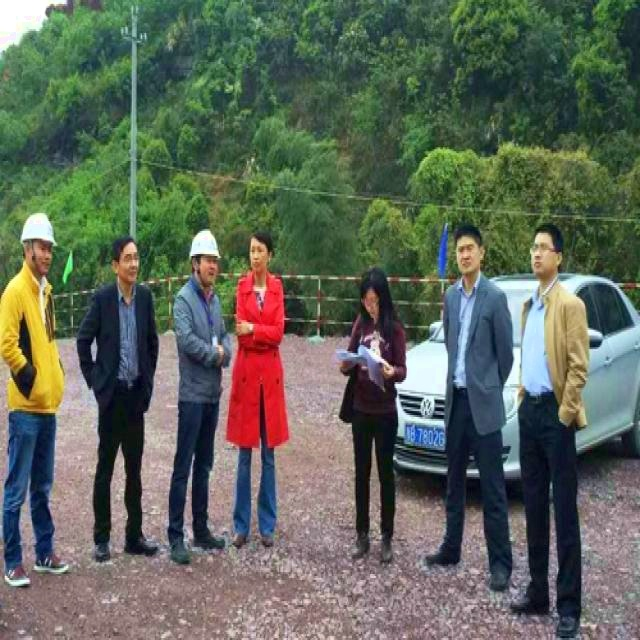Con_Casco: (21, 214, 58, 275), (190, 229, 222, 283)
Sin_Casco_Mascarrilla: (530, 223, 561, 280), (454, 223, 483, 276)
